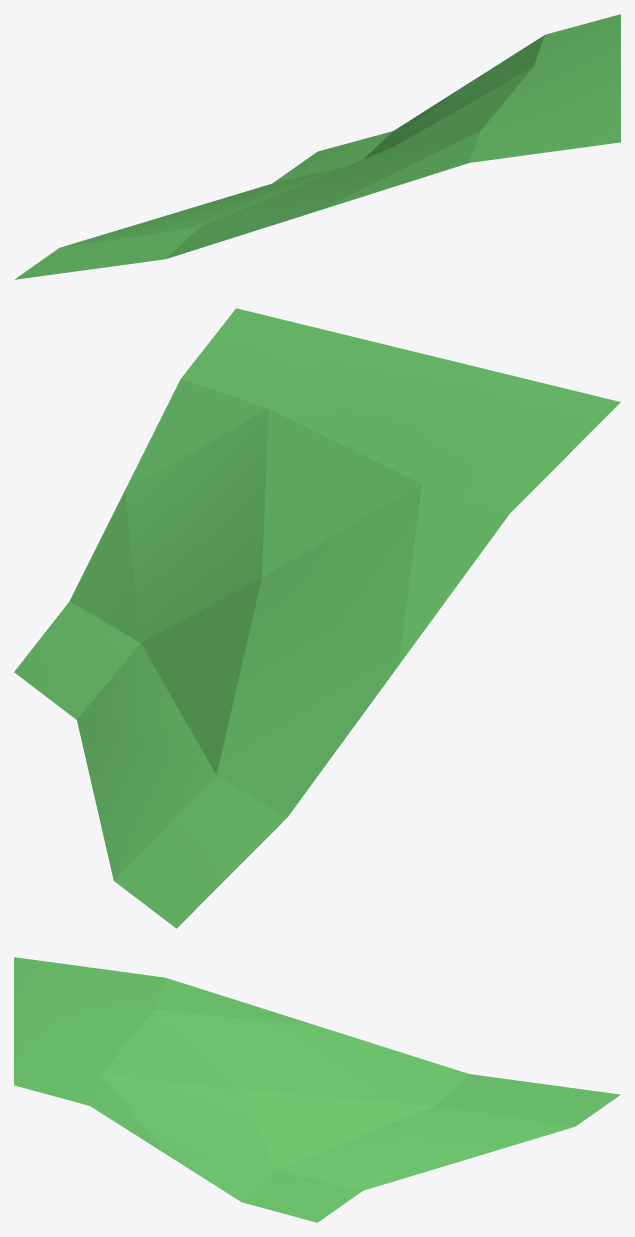
Rendered from Hilly_Terrain_Hill_Transition_Gentle_Sharp_Flush_Crest.glb.
3 renders of one model, top to bottom at view 1: azimuth 90°, elevation 25°; view 2: azimuth 150°, elevation 25°; view 3: azimuth 270°, elevation 25°, orthographic. The views are drawn at different scales.
Visible parts, largest first — view 1: Hilly_Terrain_Hill_Transition_Gentle_Sharp_Flush_Crest; view 2: Hilly_Terrain_Hill_Transition_Gentle_Sharp_Flush_Crest; view 3: Hilly_Terrain_Hill_Transition_Gentle_Sharp_Flush_Crest.
Boxes of the visible parts, box(x1,y1,x2,y2) form: Hilly_Terrain_Hill_Transition_Gentle_Sharp_Flush_Crest: box(14, 14, 620, 279); Hilly_Terrain_Hill_Transition_Gentle_Sharp_Flush_Crest: box(14, 308, 620, 928); Hilly_Terrain_Hill_Transition_Gentle_Sharp_Flush_Crest: box(14, 957, 620, 1222).
Bounding box in the file's own units: 2 × 1 × 4.
